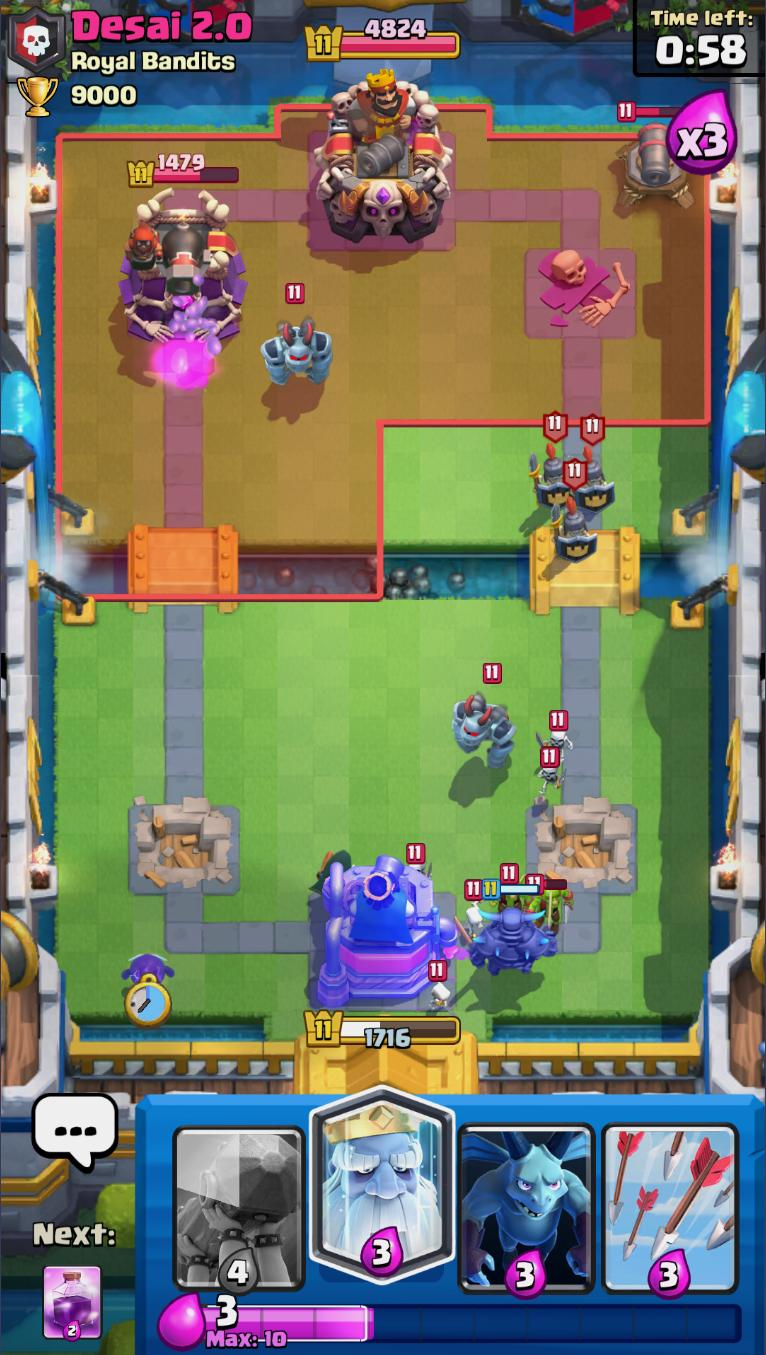ArrowDeck: (601, 1098, 741, 1296)
BattleRamDeck: (167, 1096, 313, 1296)
Cannon: (615, 100, 697, 212)
Cannoneer: (124, 213, 207, 297)
Elixir: (201, 1295, 744, 1349)
EnemyTower: (119, 188, 249, 346)
EnemyTowerBrocken: (522, 249, 639, 341)
Goblin: (527, 873, 575, 931), (495, 864, 531, 910)
Guards: (551, 460, 599, 560), (527, 411, 576, 508), (574, 413, 617, 514)
KingTower: (312, 65, 455, 247)
KingTowerHP: (301, 18, 460, 65)
MegaMinion: (262, 283, 331, 389), (450, 663, 518, 769)
MinionsDeck: (453, 1098, 601, 1296)
MyBandit: (310, 845, 353, 901)
MyElectroSpirit: (118, 948, 177, 988)
MyKingHP: (302, 1006, 462, 1051)
MyKingTower: (314, 859, 458, 1008)
MyPekka: (457, 878, 561, 979)
MyPrincessTowerBrocken: (125, 800, 243, 900), (524, 799, 641, 899)
RageNext: (41, 1263, 104, 1343)
RoyaleGhostDeck: (311, 1097, 455, 1295)
Skeleton: (534, 709, 578, 754), (535, 747, 570, 799), (418, 960, 453, 1010), (461, 879, 487, 932), (404, 841, 434, 880)
TowerPrincessHP: (127, 154, 242, 191)
